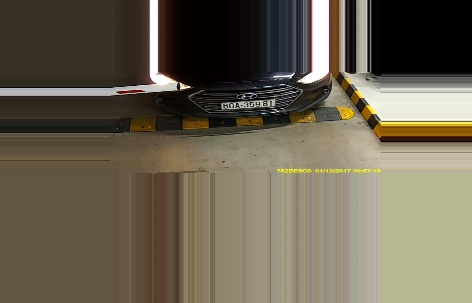plate: (220, 99, 279, 112)
